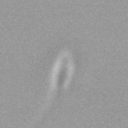normal: (22, 90, 64, 124)
